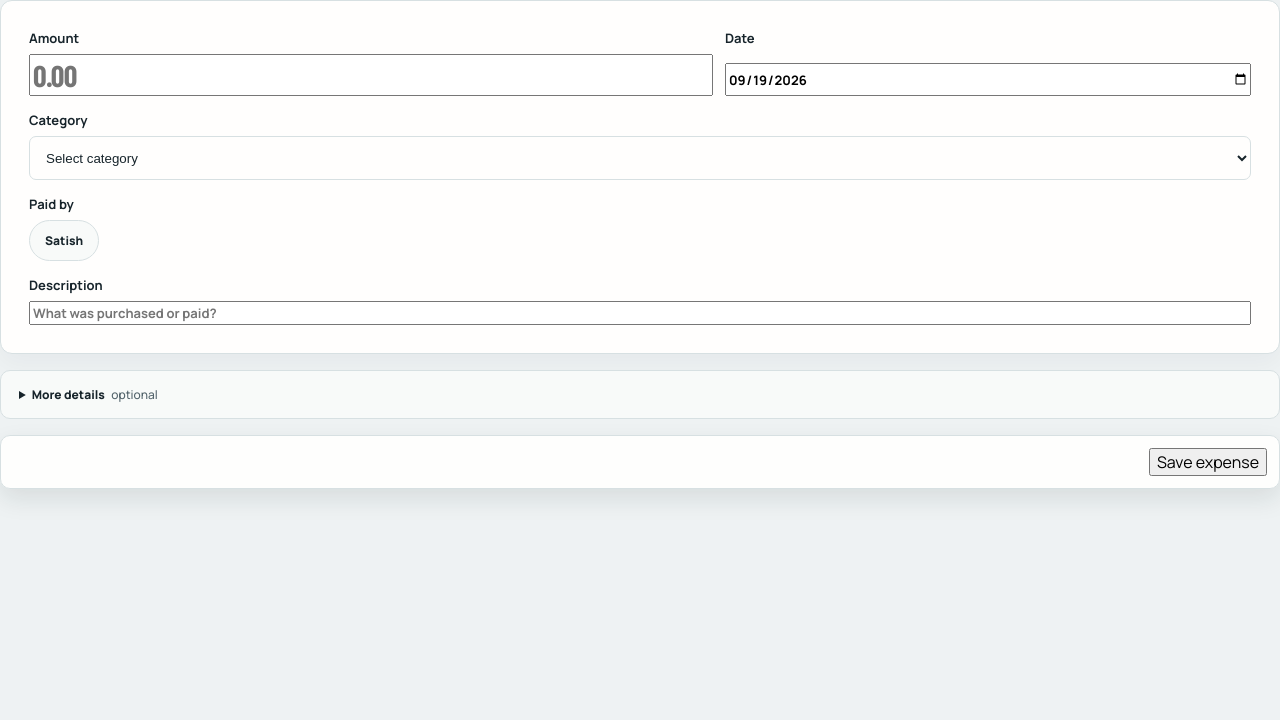
Test: ExpenseForm › blocks empty and imprecise core values before a ledger request
Click the button "Save expense" at (1208, 462), box [1149,448,1267,476]
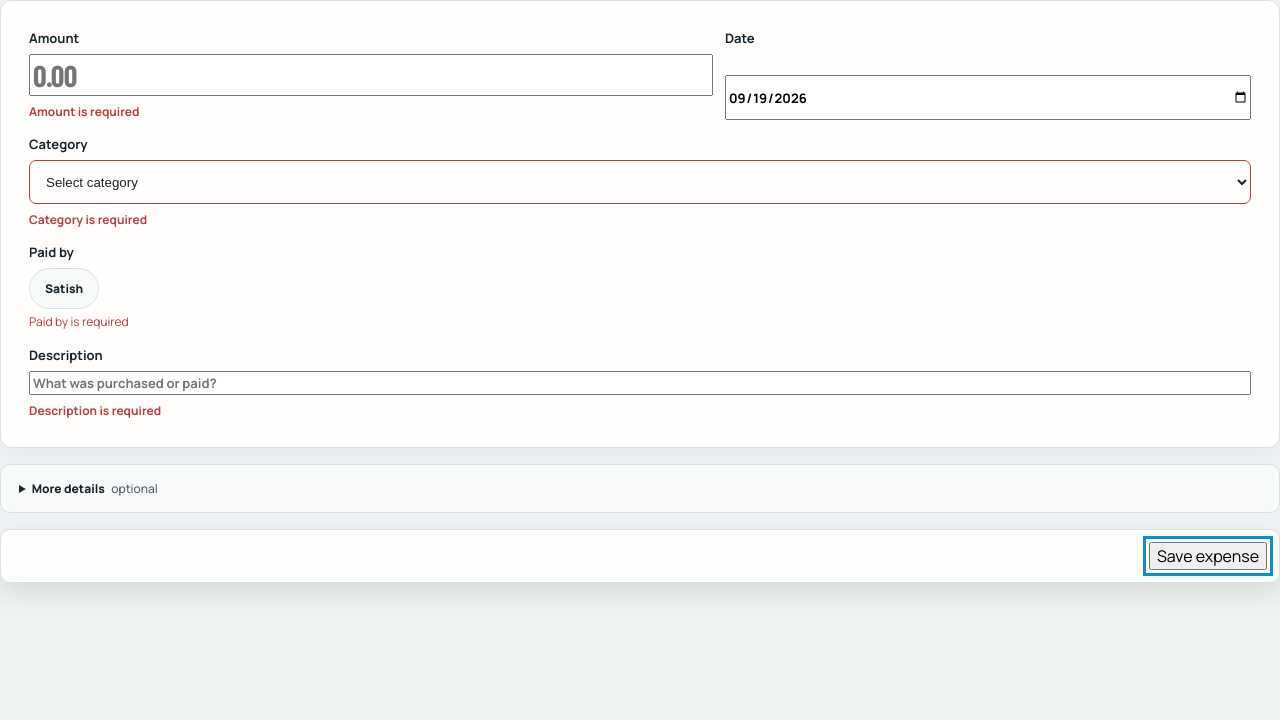
expect the text "Amount is required" is shown: met, box [29,103,140,120]
expect the text "Category is required" is shown: met, box [29,211,147,228]
expect the text "Paid by is required" is shown: met, box [29,313,129,330]
Type "10.999" into the field labelled "Amount" at (371, 75), box [29,54,713,96]
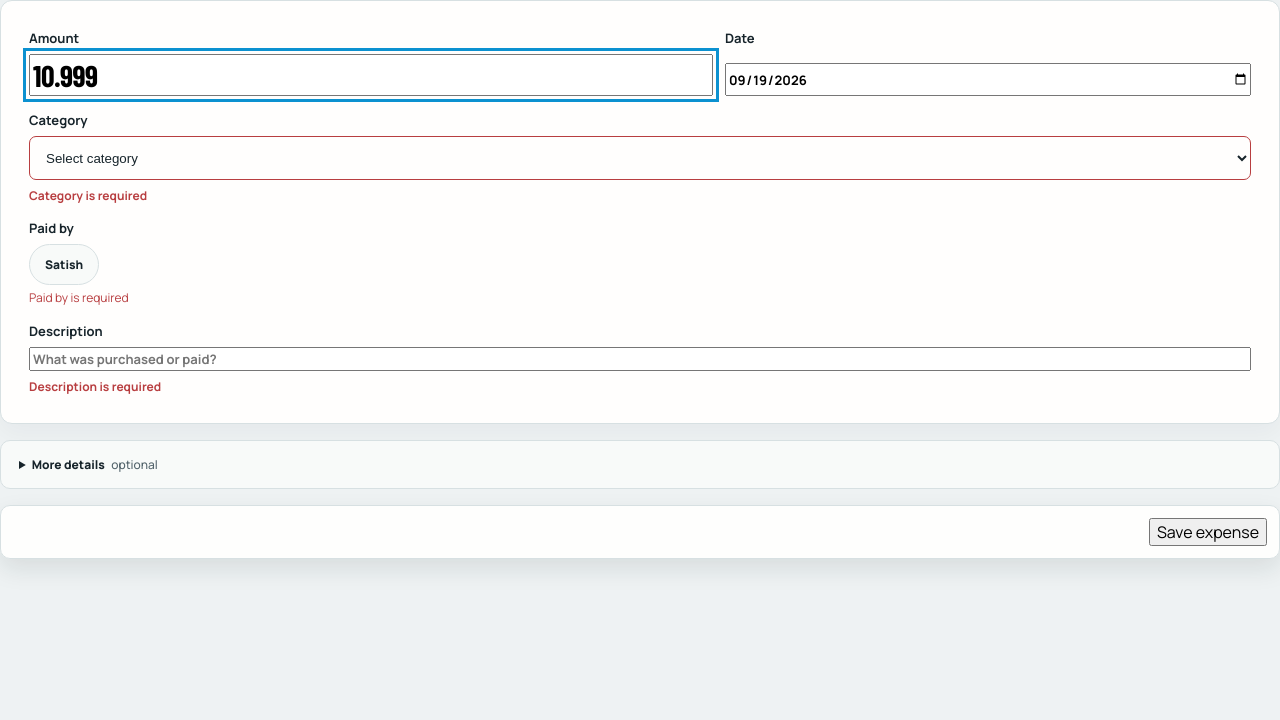
Click the button "Save expense" at (1208, 532), box [1149,518,1267,546]
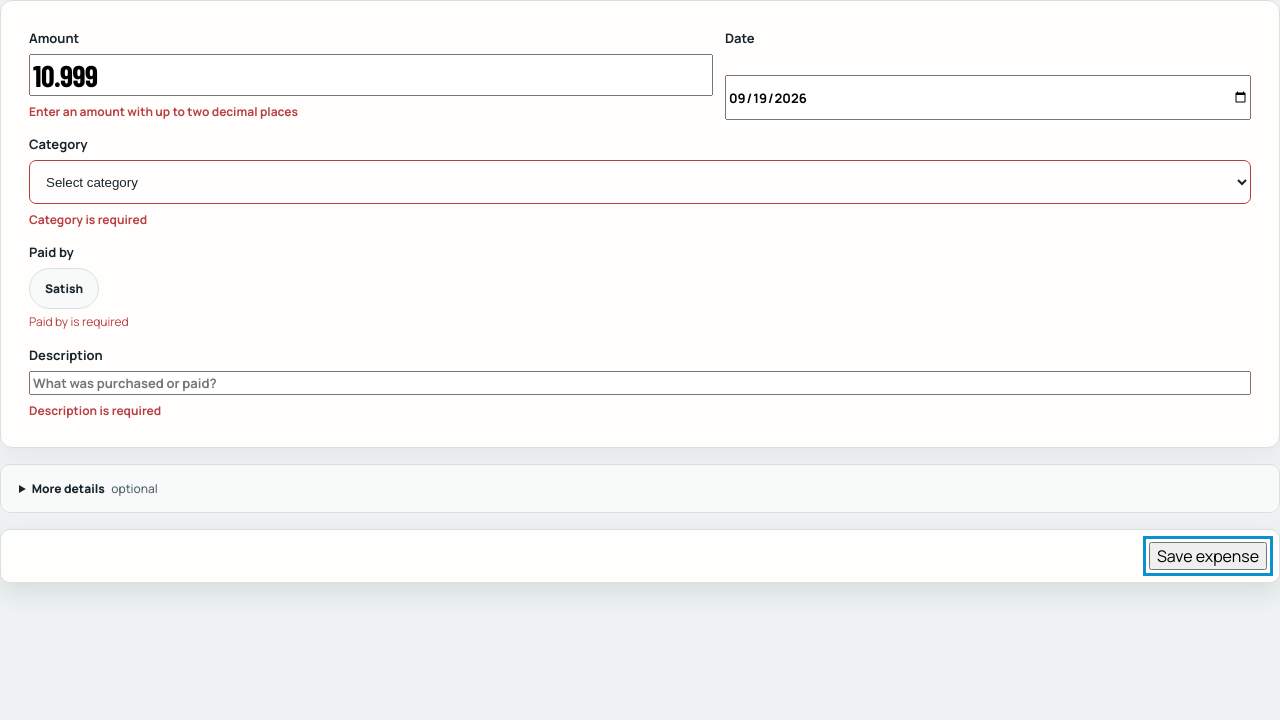
expect the text "Enter an amount with up to two decimal places" is shown: met, box [29,103,298,120]
